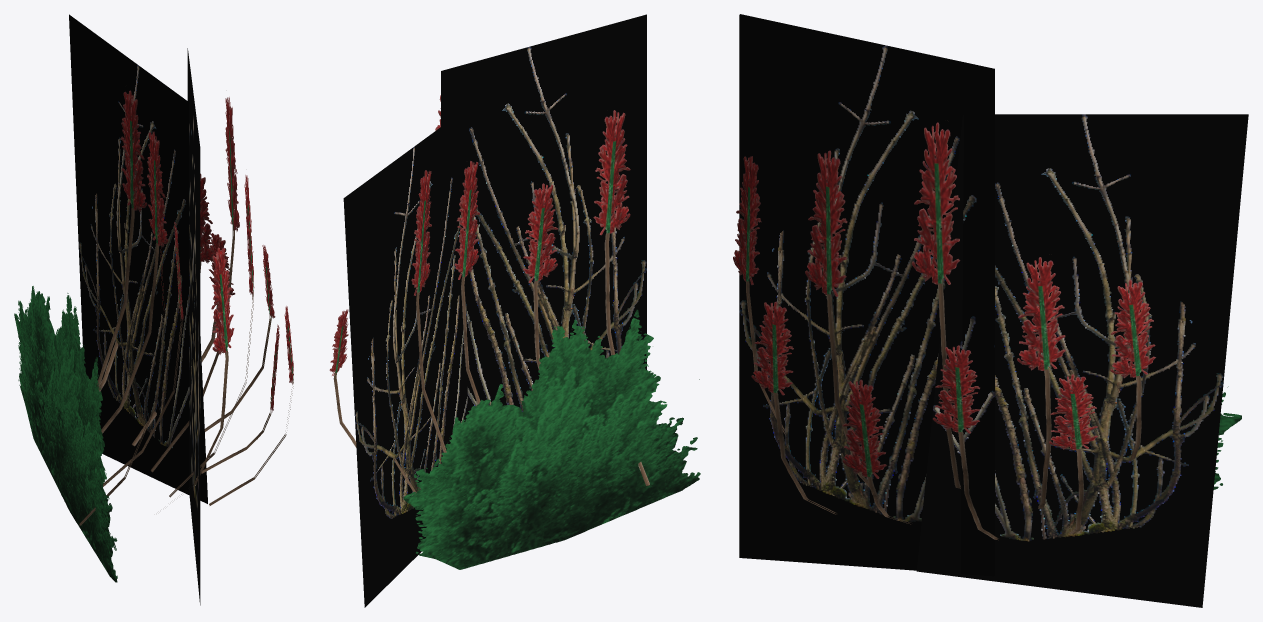
The model's file is flower-bush.glb.
3 views of the same model, side by side, from view 1: azimuth 30°, elevation 25°; view 2: azimuth 150°, elevation 25°; view 3: azimuth 270°, elevation 25° (orthographic). The views are drawn at different scales.
Parts seen in each view (by area): view 1: stktex_branches_diff_a.png__, stktex_redFlower_a.png__, stktex_greenBrush_a.png__; view 2: stktex_branches_diff_a.png__, stktex_greenBrush_a.png__, stktex_redFlower_a.png__; view 3: stktex_branches_diff_a.png__, stktex_redFlower_a.png__.
Boxes of the visible parts, x1=… form: stktex_branches_diff_a.png__: x1=69, y1=14, x2=207, y2=605; stktex_redFlower_a.png__: x1=79, y1=90, x2=293, y2=525; stktex_greenBrush_a.png__: x1=14, y1=286, x2=118, y2=582; stktex_branches_diff_a.png__: x1=343, y1=14, x2=646, y2=607; stktex_greenBrush_a.png__: x1=403, y1=309, x2=700, y2=569; stktex_redFlower_a.png__: x1=329, y1=95, x2=649, y2=493; stktex_branches_diff_a.png__: x1=739, y1=14, x2=1248, y2=607; stktex_redFlower_a.png__: x1=733, y1=120, x2=1155, y2=540.
Bounding box in the file's own units: 2.36 × 4.21 × 3.63.
Materials: 3 (3 with a texture image).
